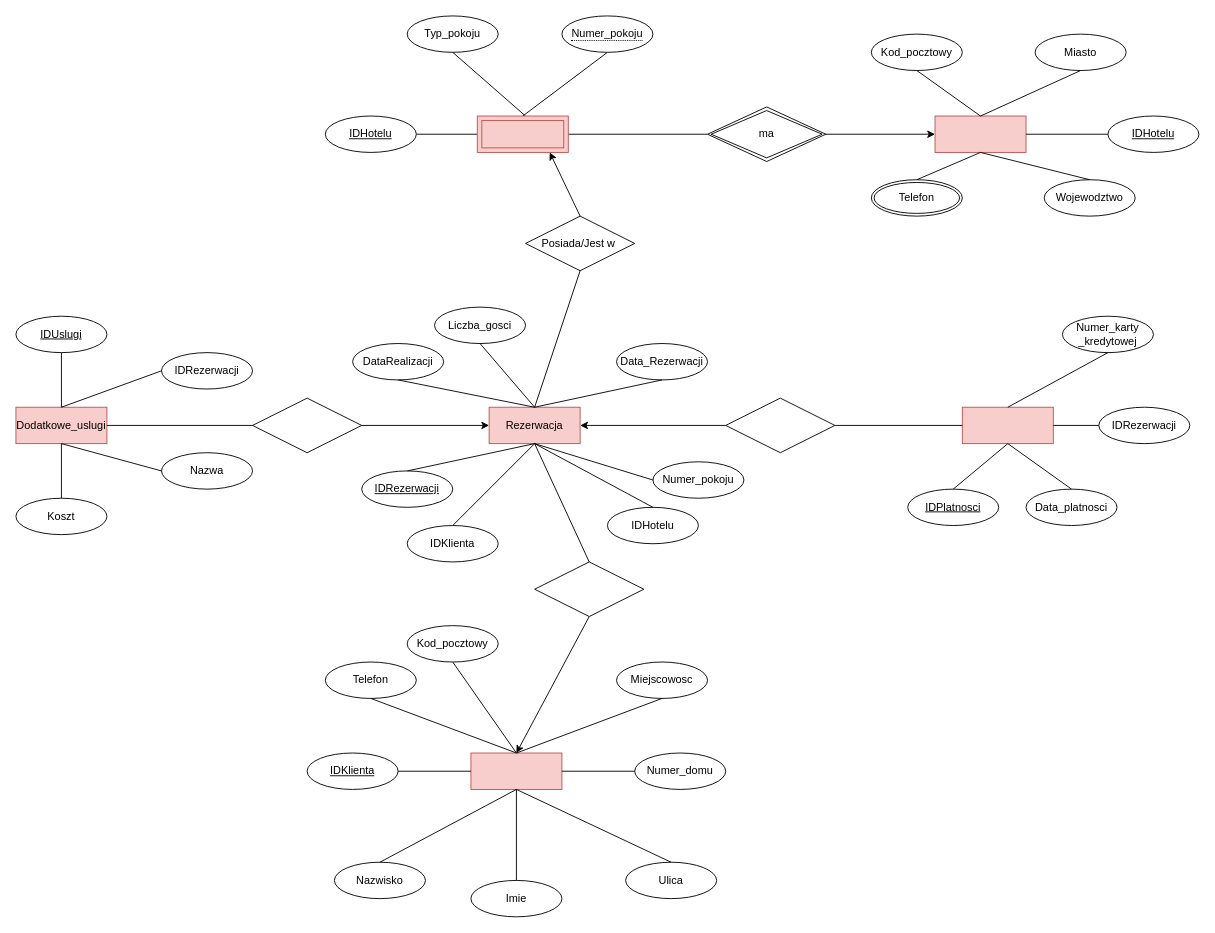
This 1215x933 diagram has some shape labels left out. The shapes that lost their labels are listed below. From the top down, each one's centre as x and y in pixels, then its label:
At (522,133): "Pokoj".
At (980,133): "Hotel".
At (307,425): "Posiada".
At (780,425): "Wymaga".
At (1007,425): "Platnosc".
At (589,589): "Składa".
At (516,770): "Klient".
